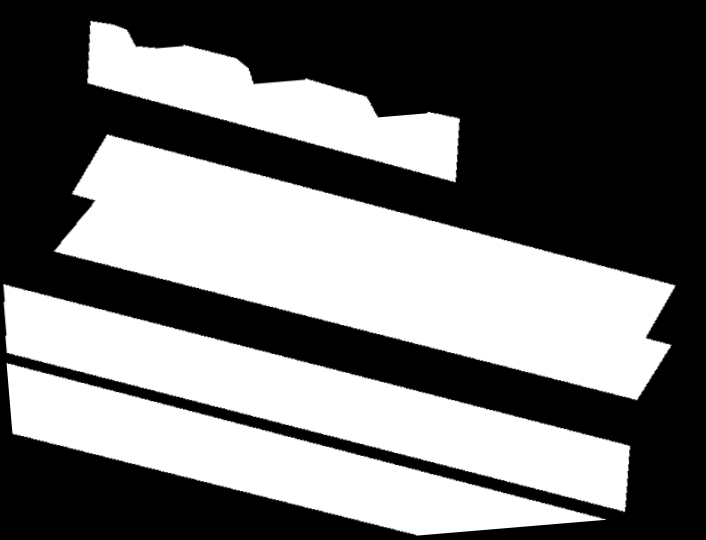parkingspot: (54, 134, 676, 400), (3, 284, 630, 512), (7, 363, 606, 536), (87, 21, 460, 182)
